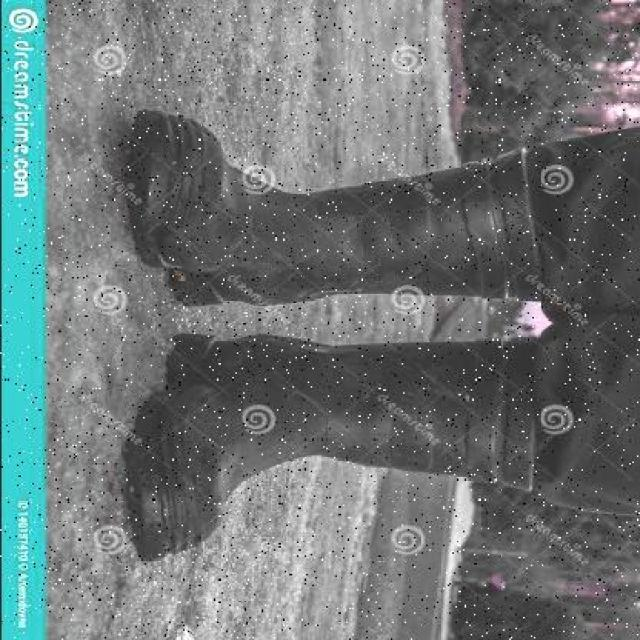shoes: (115, 332, 536, 546), (125, 115, 528, 319)
